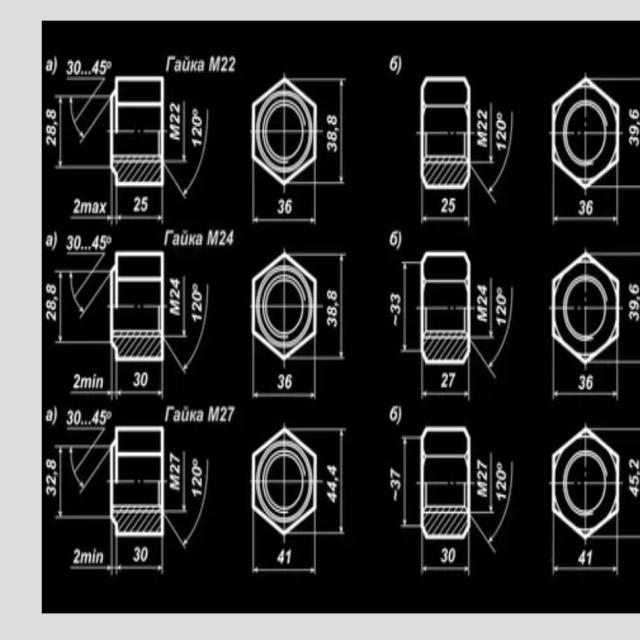marking_line: (471, 447, 515, 557), (165, 100, 211, 200), (165, 451, 211, 550), (473, 278, 516, 381), (55, 443, 110, 520), (167, 276, 209, 375), (56, 270, 109, 347), (55, 94, 108, 169), (472, 112, 514, 205), (320, 73, 349, 188), (319, 249, 348, 361), (317, 427, 346, 536), (67, 251, 109, 322), (67, 425, 108, 495), (68, 74, 108, 142), (252, 187, 318, 228), (250, 362, 317, 399), (552, 542, 621, 577), (550, 191, 619, 226), (252, 537, 317, 574), (68, 525, 114, 574), (550, 367, 619, 399), (71, 353, 114, 401), (114, 537, 168, 575), (73, 175, 114, 223), (69, 272, 108, 322), (115, 188, 169, 224), (419, 365, 473, 401), (594, 184, 640, 224), (418, 191, 472, 224), (420, 542, 473, 575), (402, 434, 420, 531), (115, 365, 165, 399), (402, 261, 419, 356), (166, 272, 188, 338), (472, 102, 494, 166), (473, 450, 494, 517), (167, 102, 188, 165), (166, 451, 187, 513), (474, 281, 494, 341), (593, 76, 640, 82)
numeric: (326, 287, 338, 303), (190, 474, 203, 488), (447, 370, 456, 390), (446, 197, 456, 215), (276, 548, 285, 567), (326, 464, 338, 478), (228, 55, 237, 73), (228, 404, 237, 422), (168, 451, 181, 463), (45, 309, 57, 322), (169, 286, 181, 299), (169, 102, 181, 115), (190, 125, 203, 137), (326, 141, 338, 154), (325, 491, 338, 503), (496, 294, 508, 307), (190, 465, 204, 476), (140, 545, 149, 562), (72, 372, 81, 389), (284, 373, 293, 390), (73, 234, 81, 252), (133, 195, 141, 213), (440, 372, 448, 390), (495, 129, 507, 141), (577, 549, 586, 565), (586, 547, 594, 565), (628, 108, 640, 120), (168, 462, 181, 473), (190, 487, 203, 498), (191, 291, 204, 302), (325, 114, 338, 125), (325, 305, 338, 316), (390, 465, 401, 478), (629, 310, 640, 323), (132, 370, 140, 387), (220, 229, 228, 246), (227, 229, 235, 246), (141, 196, 149, 213), (277, 197, 285, 214), (285, 197, 293, 214), (276, 372, 284, 389), (578, 199, 586, 216), (586, 199, 594, 216), (140, 372, 149, 387), (73, 546, 80, 565), (132, 545, 139, 564), (73, 197, 80, 216), (46, 474, 57, 486), (45, 459, 57, 470), (45, 108, 57, 119), (191, 115, 203, 126), (327, 130, 338, 142), (327, 481, 338, 493), (496, 469, 507, 481), (628, 283, 640, 294), (628, 300, 640, 311), (628, 136, 640, 147), (495, 480, 508, 490), (92, 234, 100, 250), (220, 56, 228, 72), (447, 547, 455, 563), (577, 374, 585, 390), (190, 302, 204, 311), (440, 196, 447, 214), (45, 486, 56, 497), (391, 303, 402, 314), (629, 125, 640, 136), (74, 410, 82, 425), (44, 136, 56, 146), (45, 125, 57, 135), (73, 60, 81, 75), (191, 138, 203, 148), (326, 317, 338, 327), (476, 295, 488, 305), (495, 305, 507, 315), (220, 405, 227, 422), (92, 410, 100, 424), (66, 234, 73, 250), (285, 549, 292, 565), (46, 299, 56, 310), (45, 284, 55, 295), (170, 114, 181, 124), (477, 458, 487, 469), (390, 293, 400, 304), (477, 120, 488, 130), (477, 108, 487, 119), (496, 120, 507, 130), (629, 487, 640, 497), (495, 143, 507, 152), (628, 460, 640, 469), (99, 409, 106, 424), (100, 235, 107, 250), (93, 59, 100, 74), (190, 314, 203, 322), (441, 547, 447, 564), (169, 278, 179, 288), (629, 476, 639, 486), (390, 480, 401, 489), (67, 59, 73, 75), (100, 59, 106, 75), (476, 470, 486, 479), (477, 284, 486, 294), (587, 375, 593, 390), (496, 492, 507, 500), (496, 318, 507, 325), (67, 410, 72, 425)
special_symbol: (190, 109, 199, 117), (191, 281, 198, 291), (496, 111, 503, 120), (496, 461, 503, 469), (106, 411, 111, 421)
